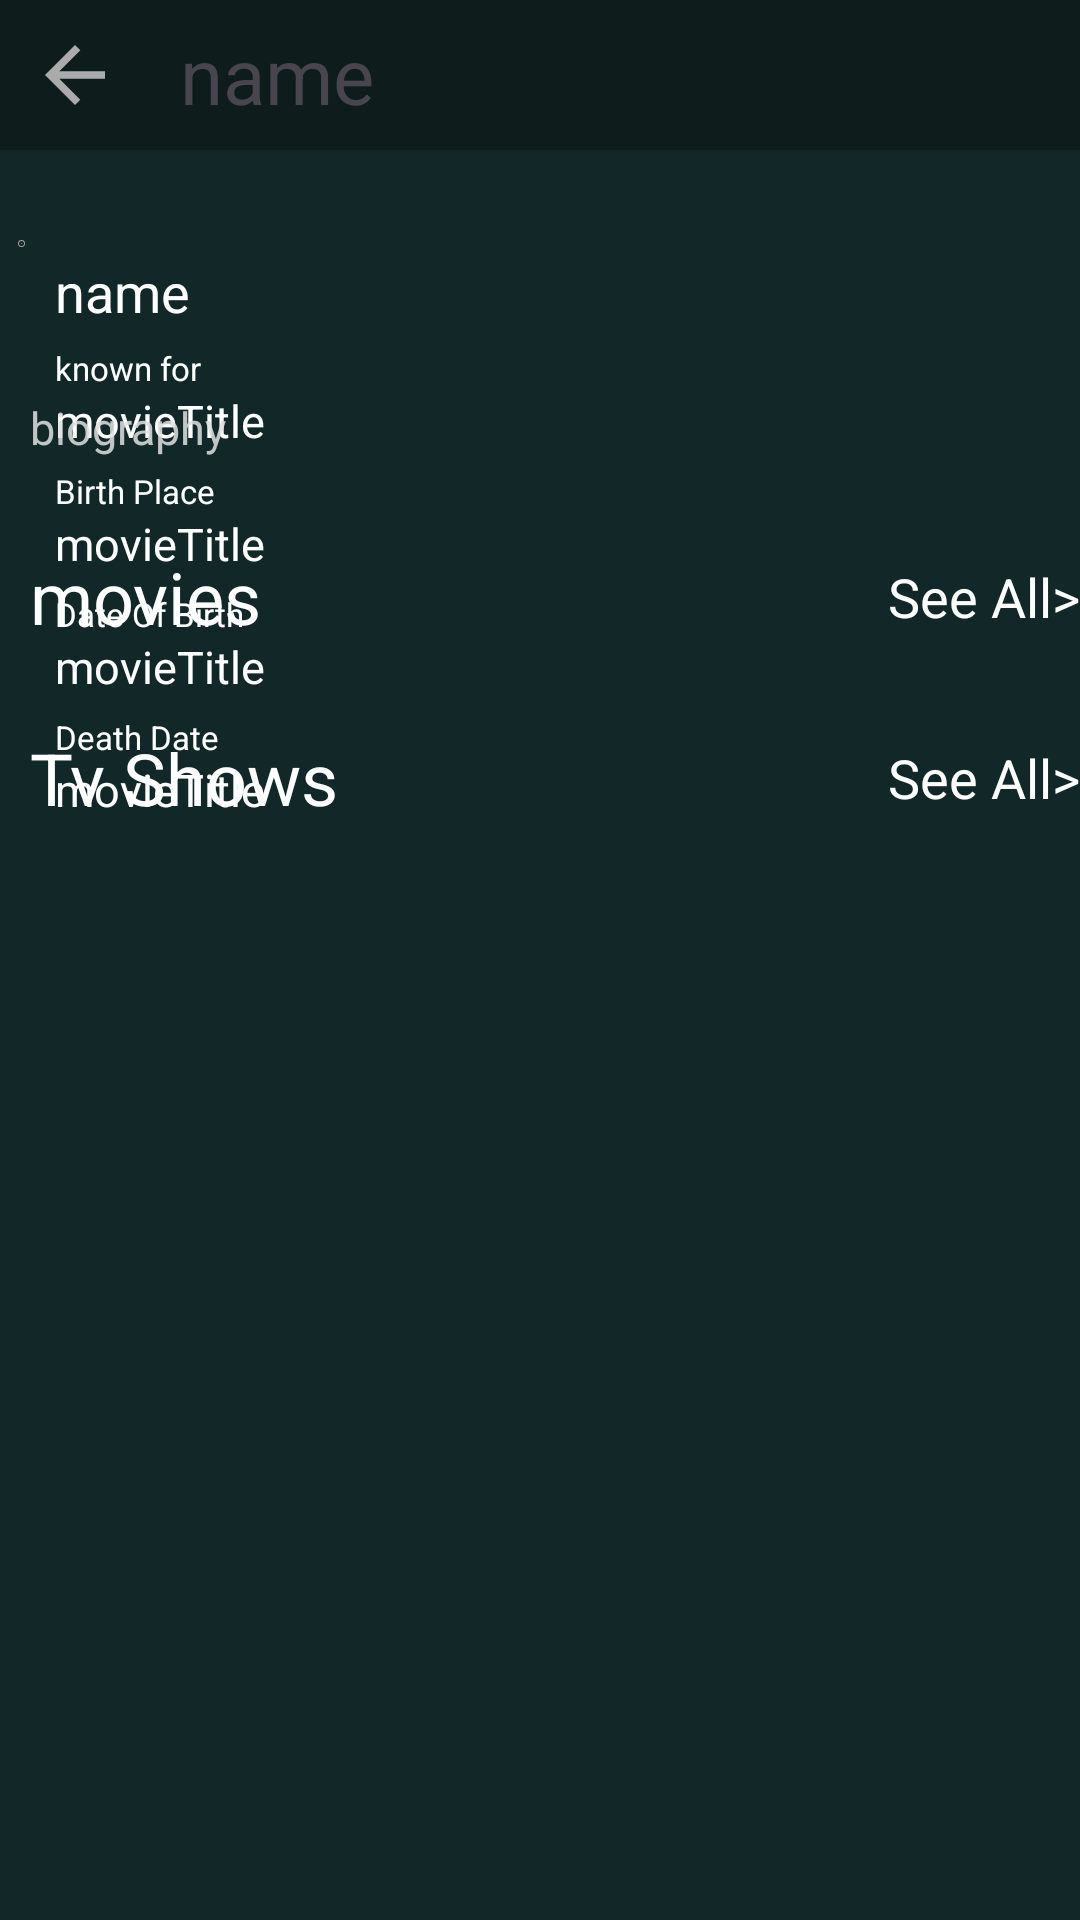

Icons on this 1080×1920 Android screen, each with its box as [left=x1, top=y1, right=x2, bottom=y2]:
arrow back: [left=45, top=45, right=105, bottom=105]
